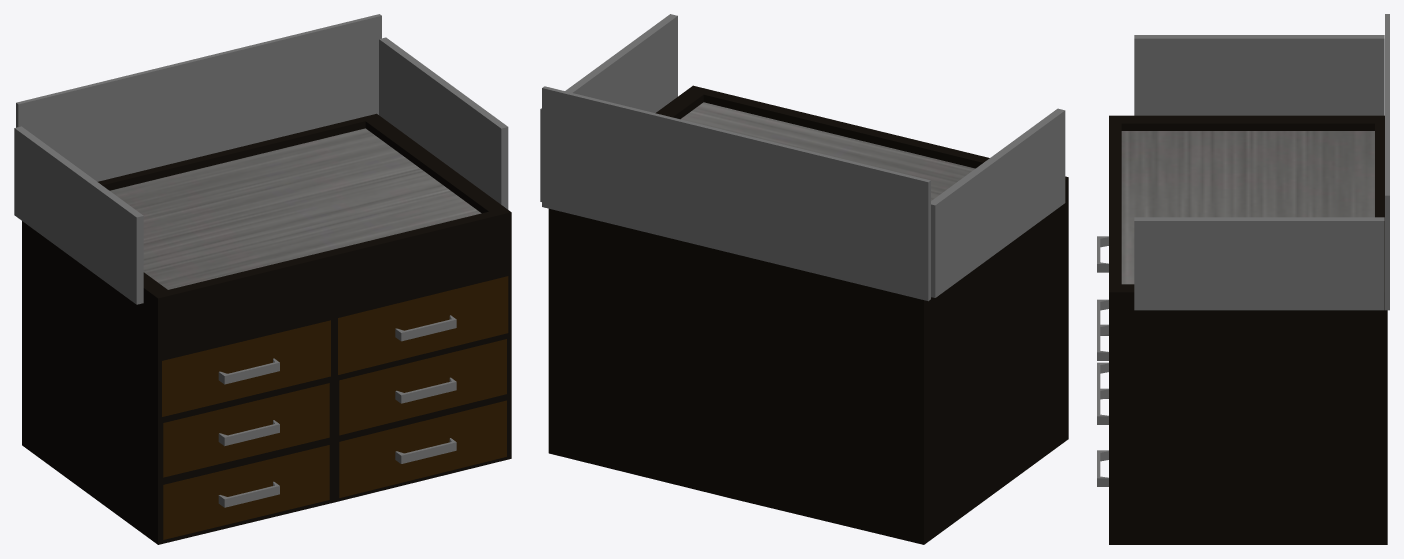
Rendered from teppan.fbx.
3 views of the same model, side by side, from view 1: azimuth 30°, elevation 25°; view 2: azimuth 150°, elevation 25°; view 3: azimuth 270°, elevation 25° (orthographic). The views are drawn at different scales.
Parts seen in each view (by area): view 1: main, cover1, teppann, cover, door3, door2, door5, door4, door6, door1, handle.001, handle.003 (+4 smaller); view 2: main, cover1, cover, teppann; view 3: main, cover, teppann, cover1.
Boxes of the visible parts, <box> form: main: <box>22,113,511,544</box>; cover1: <box>16,14,381,181</box>; teppann: <box>110,128,481,289</box>; cover: <box>14,37,508,304</box>; door3: <box>338,276,508,374</box>; door2: <box>162,320,330,416</box>; door5: <box>339,400,506,497</box>; door4: <box>339,339,506,435</box>; door6: <box>163,445,329,539</box>; door1: <box>163,383,329,477</box>; handle.001: <box>395,315,456,341</box>; handle.003: <box>395,377,456,403</box>; main: <box>548,85,1068,544</box>; cover1: <box>542,86,930,301</box>; cover: <box>540,14,1065,297</box>; teppann: <box>681,102,975,200</box>; main: <box>1109,115,1387,544</box>; cover: <box>1134,35,1384,310</box>; teppann: <box>1121,131,1374,284</box>; cover1: <box>1385,14,1389,310</box>.
Bounding box in the file's own units: 316 × 279 × 210.
